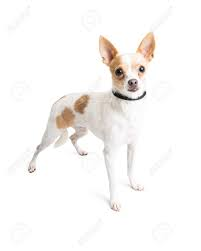chihuahua: (16, 28, 175, 218)
